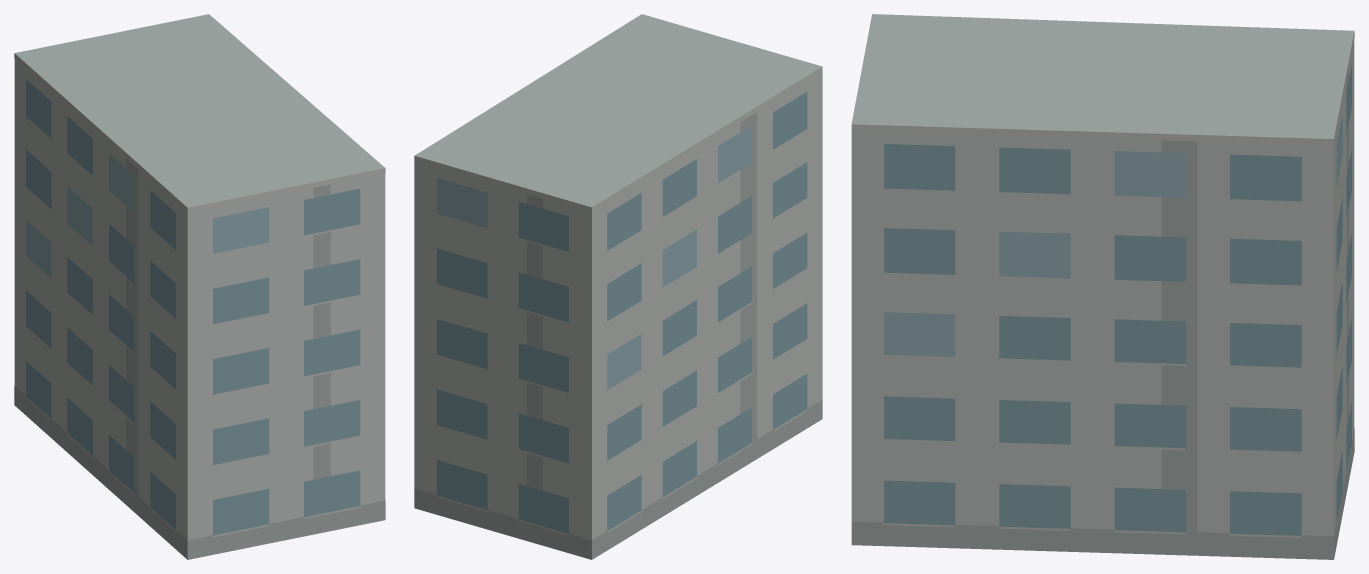
Rendered from survey-upis-33009905.glb.
3 views of the same model, side by side, from view 1: azimuth 30°, elevation 25°; view 2: azimuth 150°, elevation 25°; view 3: azimuth 270°, elevation 25° (orthographic). The views are drawn at different scales.
Visible parts, largest first — view 1: survey-upis-33009905.tmp; view 2: survey-upis-33009905.tmp; view 3: survey-upis-33009905.tmp.
Part boxes in pixels (bbox=[...]): survey-upis-33009905.tmp: bbox=[14, 14, 385, 559]; survey-upis-33009905.tmp: bbox=[414, 14, 822, 559]; survey-upis-33009905.tmp: bbox=[851, 14, 1354, 559].
Size of the model in its own units: 9.96 by 15.6 by 16.91.
